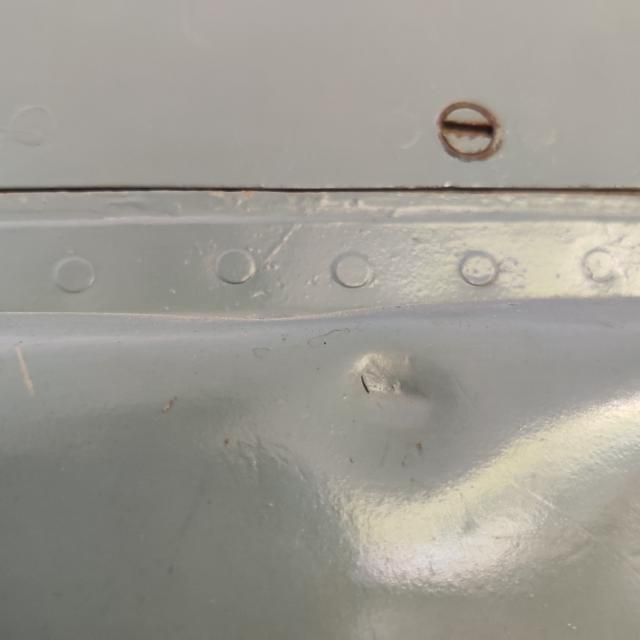Dent: (320, 327, 474, 452)
